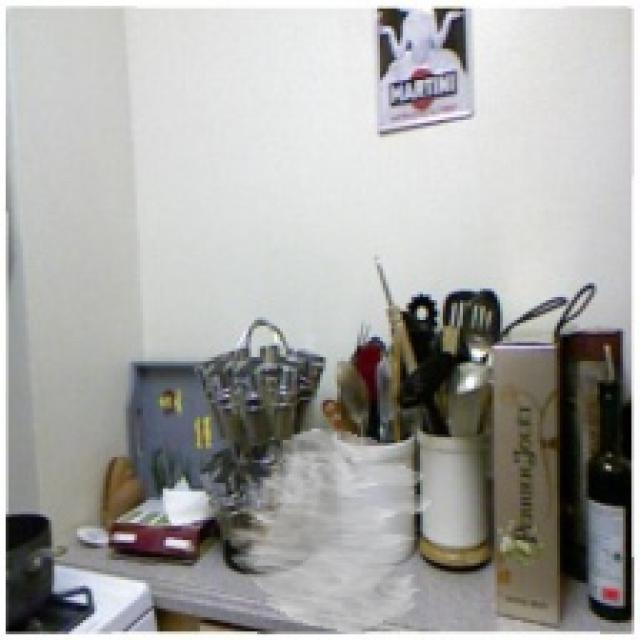Smoke: (228, 428, 432, 632)
